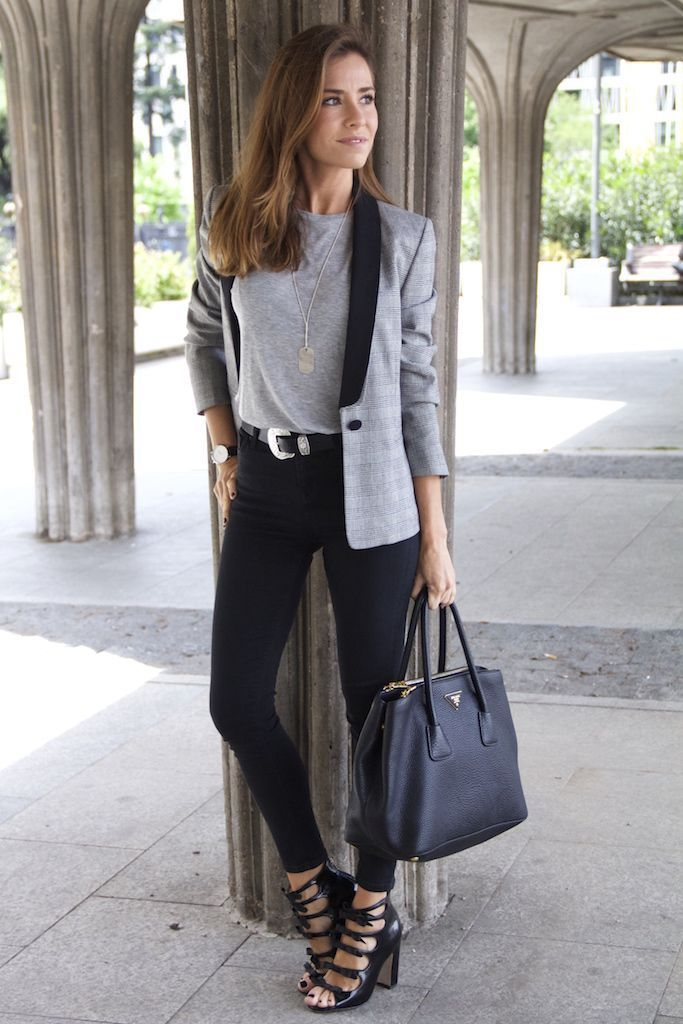F_W_suit jacket: (173, 185, 459, 536)
